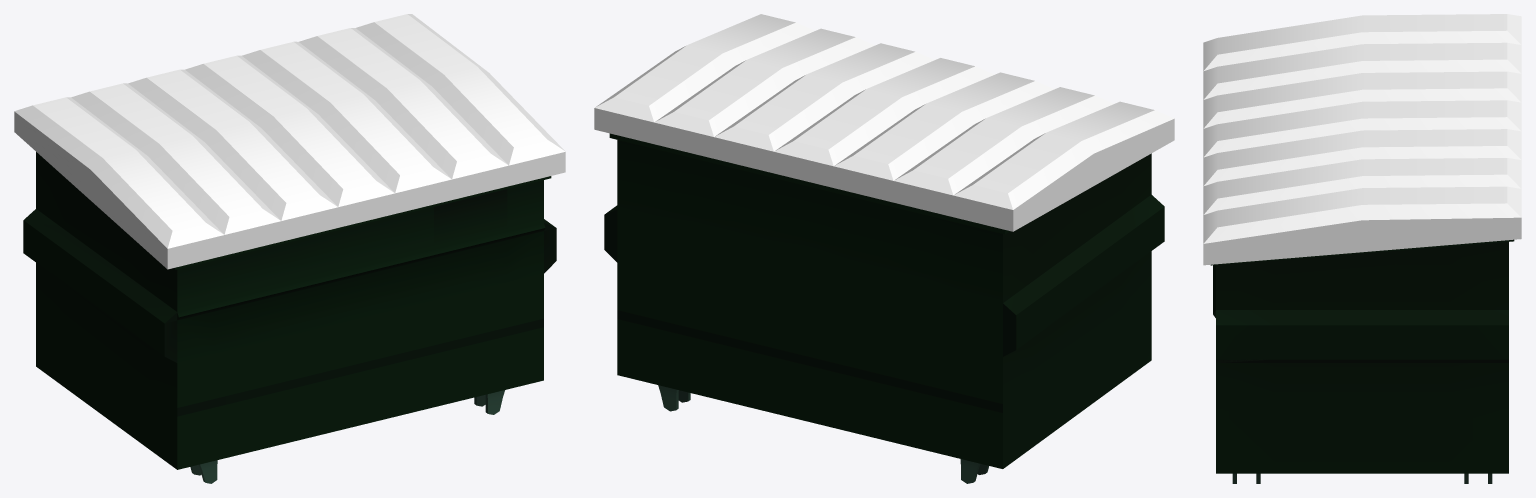
File: Dumpster_Closed.fbx
The picture shows the model from 3 angles, left to right: view 1: azimuth 30°, elevation 25°; view 2: azimuth 150°, elevation 25°; view 3: azimuth 270°, elevation 25°; orthographic projection. The views are drawn at different scales.
Parts seen in each view (by area): view 1: Dumpster_Closed; view 2: Dumpster_Closed; view 3: Dumpster_Closed.
Part boxes in pixels (left/top/right/bottom): Dumpster_Closed: left=14, top=14, right=565, bottom=483; Dumpster_Closed: left=594, top=14, right=1174, bottom=483; Dumpster_Closed: left=1203, top=14, right=1521, bottom=483.
Bounding box in the file's own units: 232 × 163 × 155.
